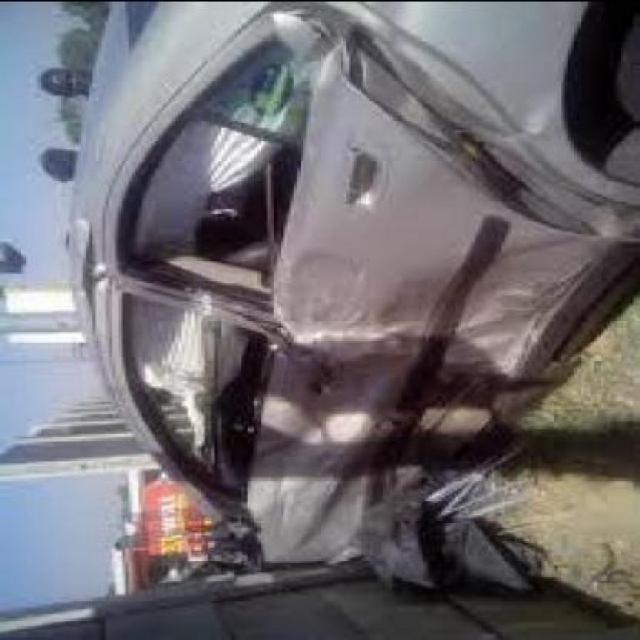damage: (68, 8, 629, 568)
